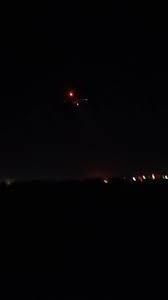Plane: (52, 79, 96, 116)
